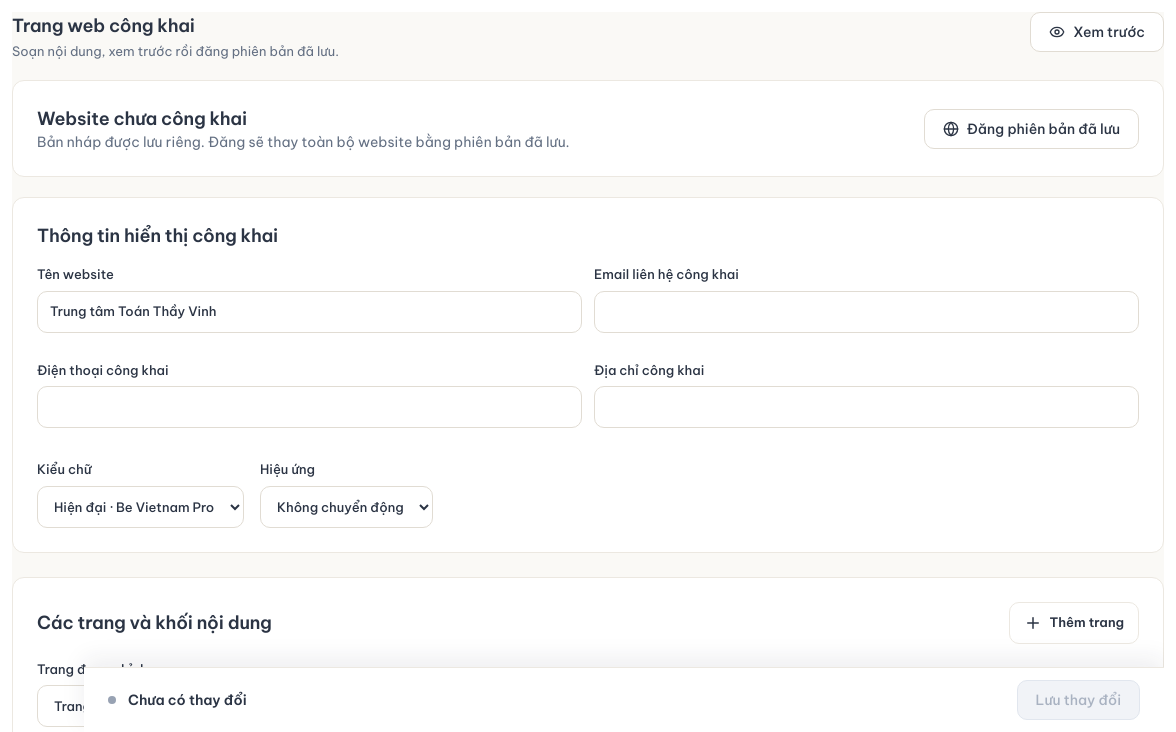
Test: shows the publish success banner and the published state
The image size is (1176, 732).
Step 1. Click the button "Đăng phiên bản đã lưu" → (1031, 128), box [924,108,1139,148]
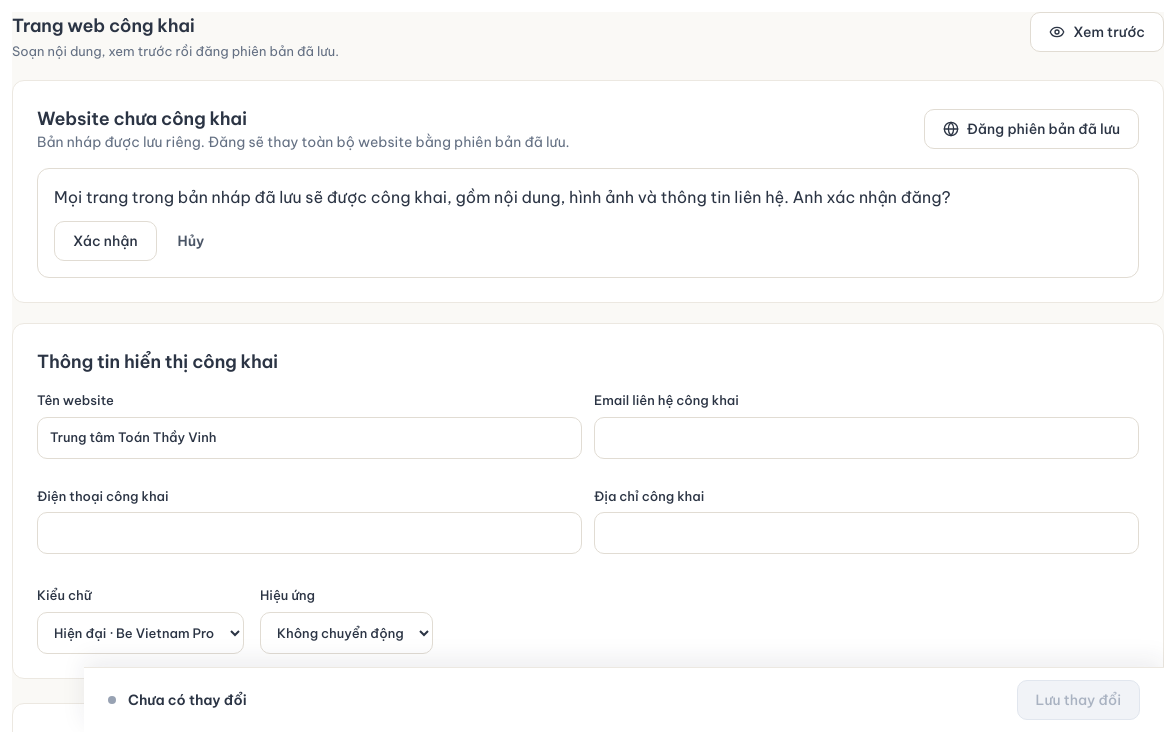
Step 2. Click the button "Xác nhận" → (105, 241), box [54,221,157,261]
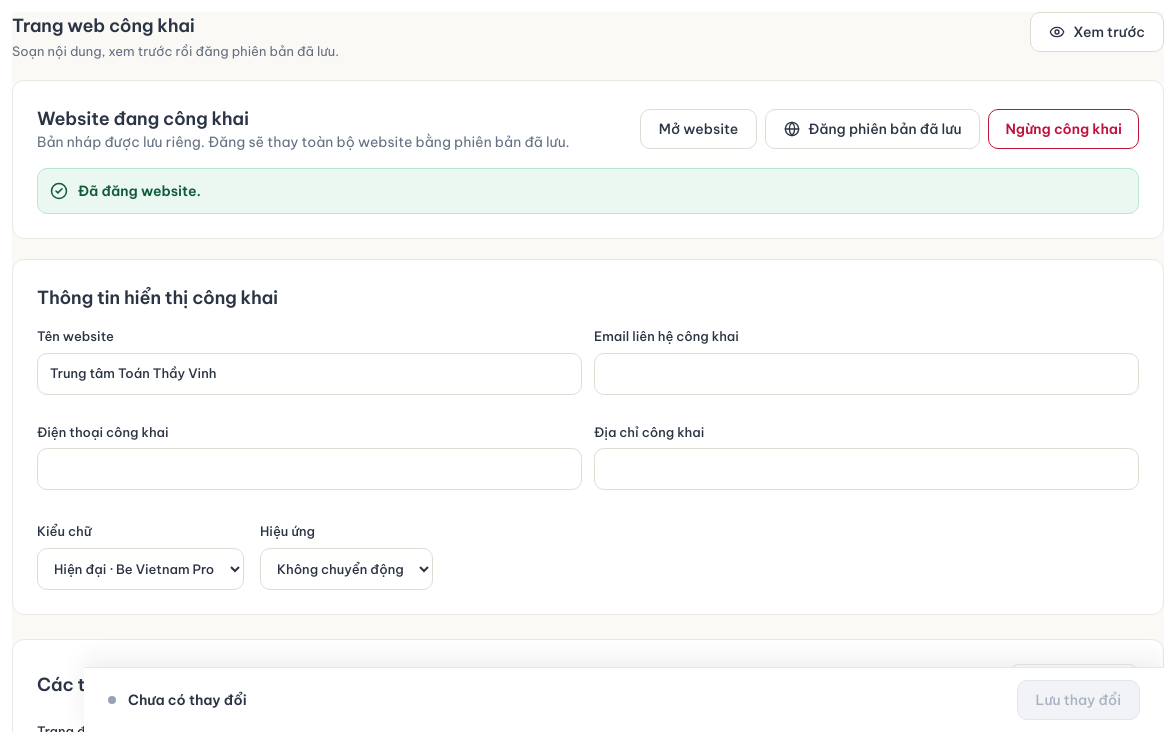
expect the message reads "Đã đăng website.": met, box [78,182,201,200]
expect the heading "Website đang công khai" is shown: met, box [37,107,249,130]
